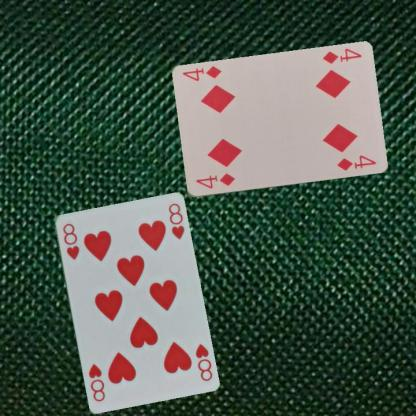4d: (319, 46, 363, 66), (194, 171, 236, 190)
8h: (192, 341, 214, 382), (60, 220, 80, 261)
